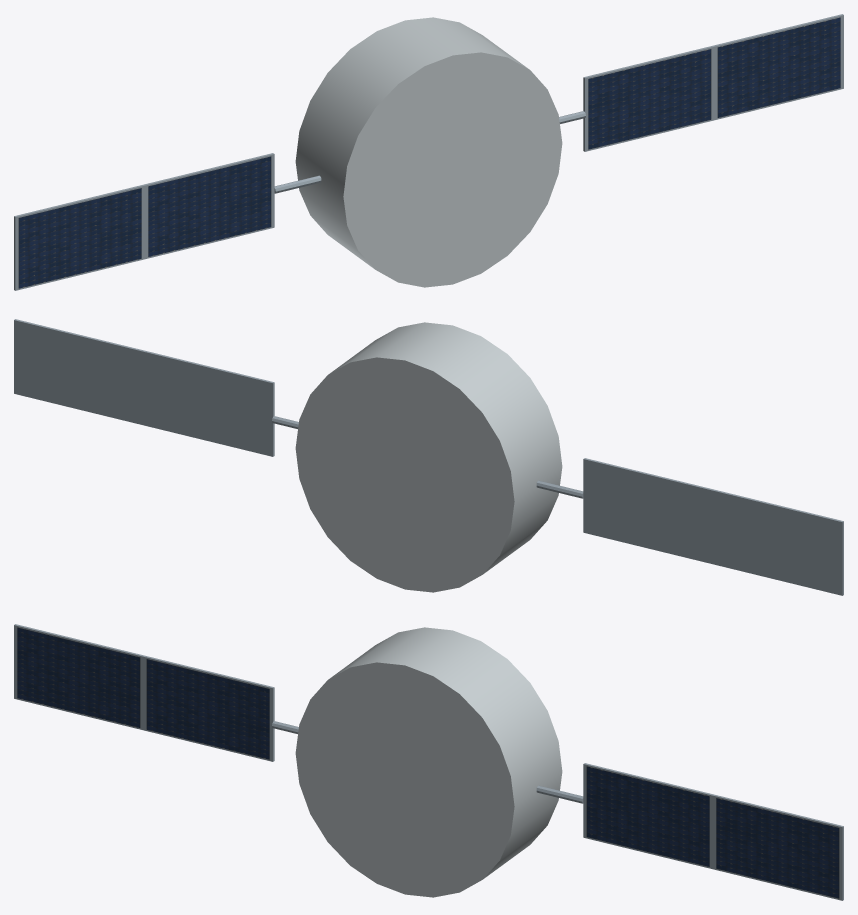
Rendered from ref-c-3-100325.glb.
3 renders of one model, top to bottom at view 1: azimuth 30°, elevation 25°; view 2: azimuth 150°, elevation 25°; view 3: azimuth 330°, elevation 25°, orthographic.
Visible parts, largest first — view 1: Spacecraft body, Photovoltaic laminates (×4), Array frame (×4); view 2: Spacecraft body, Array frame (×4); view 3: Spacecraft body, Photovoltaic laminates (×4), Array frame (×4).
Boxes of the visible parts, box(x1,y1,x2,y2) form: Spacecraft body: box(295, 17, 562, 287); Photovoltaic laminates (×4): box(18, 17, 840, 288); Array frame (×4): box(14, 14, 843, 290); Spacecraft body: box(295, 322, 562, 592); Array frame (×4): box(14, 319, 843, 595); Spacecraft body: box(295, 627, 562, 897); Photovoltaic laminates (×4): box(17, 627, 839, 898); Array frame (×4): box(14, 624, 843, 900).
Size of the model in its own units: 14 by 3.7 by 1.4.
3 materials, 1 textured.
